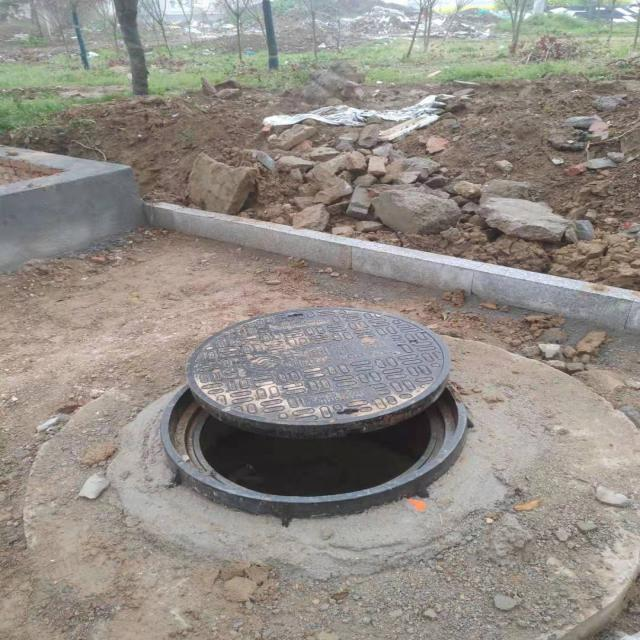Faulty: (159, 306, 469, 516)
